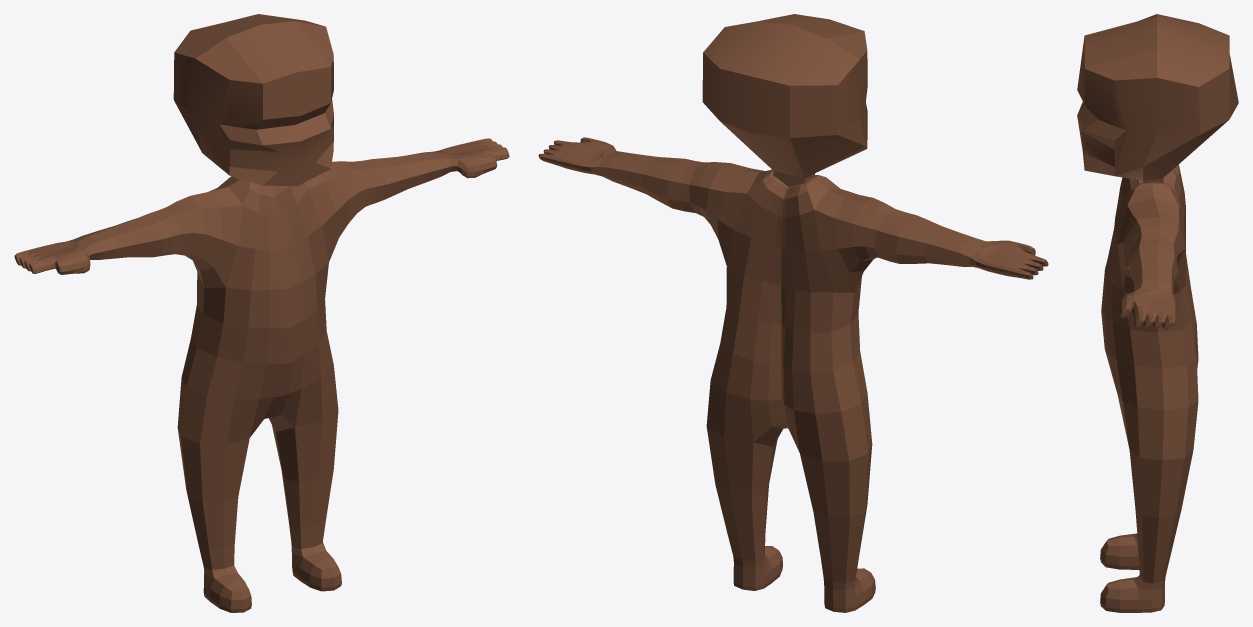
Rendered from Perso.fbx.
3 views of the same model, side by side, from view 1: azimuth 30°, elevation 25°; view 2: azimuth 150°, elevation 25°; view 3: azimuth 270°, elevation 25° (orthographic). The views are drawn at different scales.
Parts seen in each view (by area): view 1: Cube.010; view 2: Cube.010; view 3: Cube.010.
Boxes of the visible parts, bbox=[...] form: Cube.010: bbox=[14, 14, 509, 612]; Cube.010: bbox=[538, 14, 1048, 612]; Cube.010: bbox=[1077, 14, 1238, 612].
Bounding box in the file's own units: 403 × 450 × 118.
